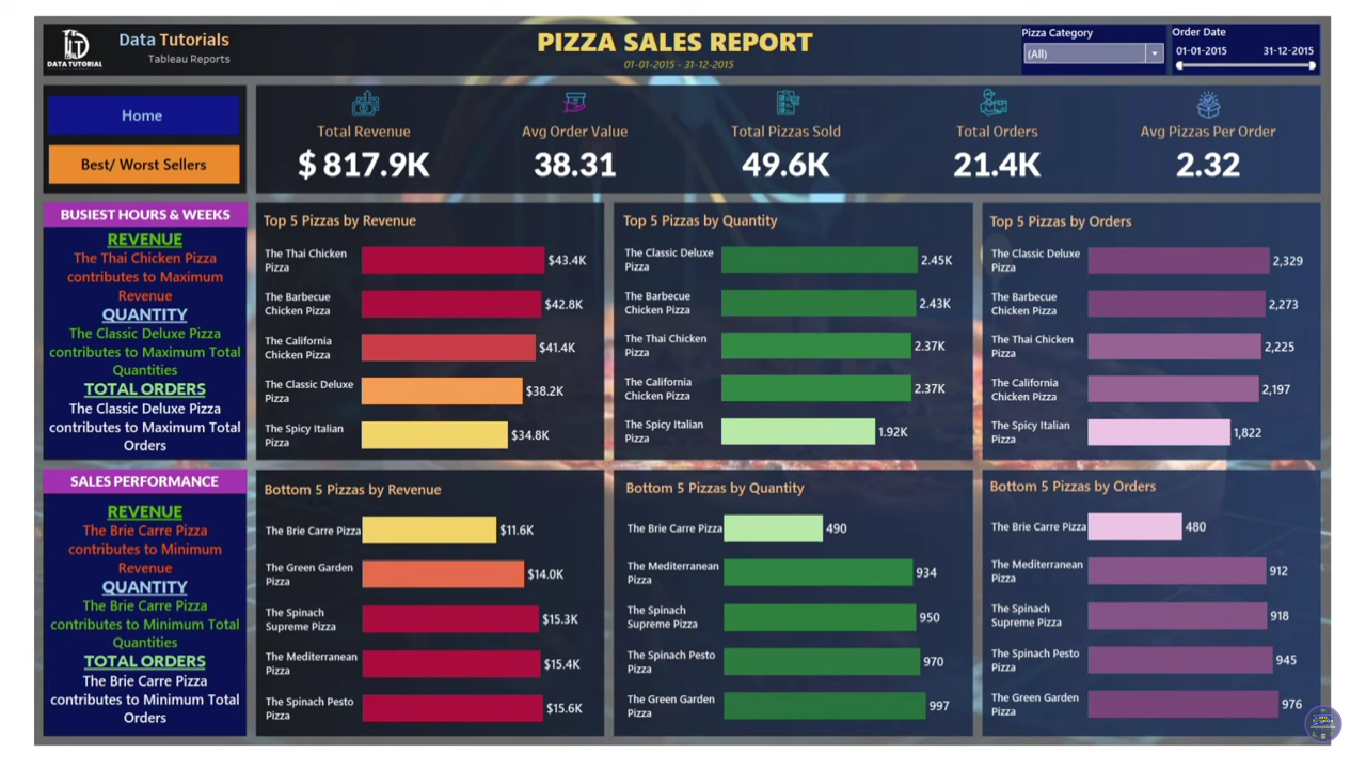

The dashboard page shown, as its layout file describes it:
{"tool":"tableau","page":{"name":"Best and worst seller","canvas":[1600,900],"ordinal":0},"visuals":[{"type":"image","param":"Image/Pizza Tableau 2.jpg","box":[8,8,1584,884]},{"type":"text","box":[452,20,221,43]},{"type":"filter","title":"Date Range","param":"[federated.1edhx0b1gj70c01gmr46z0ugq7be].[none:pizza_category:nk]","box":[29,22,200,61]},{"type":"filter","title":"Date Range","param":"[federated.1edhx0b1gj70c01gmr46z0ugq7be].[none:order_date:qk]","box":[1330,22,236,61]},{"type":"image","param":"Image/pizza-slice.png","box":[411,28,34,26]},{"type":"worksheet","title":"Date Range","mark":"Automatic","box":[350,47,379,41]},{"type":"image","param":"Image/delivery-man.png","box":[1153,95,54,42]},{"type":"image","param":"Image/shipping-box.png","box":[642,96,49,43]},{"type":"image","param":"Image/order-delivery.png","box":[900,96,45,43]},{"type":"image","param":"Image/profit-growth.png","box":[387,97,55,40]},{"type":"image","param":"Image/order (1).png","box":[1409,97,41,42]},{"type":"dashboard-object","box":[36,100,235,52]},{"type":"worksheet","title":"KPI Banner","mark":"Automatic","box":[288,137,1278,89]},{"type":"dashboard-object","box":[37,162,231,52]},{"type":"text","box":[33,235,244,32]},{"type":"worksheet","title":"Top 5 pizzaz by total Orders","mark":"Automatic","rows":["pizza_name"],"cols":["Calculation_876513114218151937"],"box":[1159,235,409,310]},{"type":"worksheet","title":"Top 5 pizzaz by revenue","mark":"Automatic","rows":["pizza_name"],"cols":["Calculation_876513114217435136"],"box":[288,236,417,309]},{"type":"worksheet","title":"Top 5 pizzaz by total pizza sold","mark":"Automatic","rows":["pizza_name"],"cols":["Calculation_876513114219102211"],"box":[717,237,432,306]},{"type":"text","box":[32,268,244,278]},{"type":"worksheet","title":"Bottom 5 pizzaz by total pizza sold (2)","mark":"Automatic","rows":["pizza_name"],"cols":["Calculation_876513114219102211"],"box":[716,555,433,321]},{"type":"text","box":[33,556,244,36]},{"type":"worksheet","title":"Bottom 5 pizzaz by revenue","mark":"Automatic","rows":["pizza_name"],"cols":["Calculation_876513114217435136"],"box":[287,556,419,321]},{"type":"worksheet","title":"Bottom 5 pizzaz by total Orders","mark":"Automatic","rows":["pizza_name"],"cols":["Calculation_876513114218151937"],"box":[1159,556,407,320]},{"type":"text","box":[33,589,244,286]}]}

Visuals, with their boxes in screenshot pixels (x1, y1, x2, y2), scaled from the page's 1600x900 canvas onto the 1366x768 screenshot:
image: box=[7, 7, 1359, 761]
text: box=[386, 17, 575, 54]
"Date Range" filter: box=[25, 19, 196, 71]
"Date Range" filter: box=[1135, 19, 1337, 71]
image: box=[351, 24, 380, 46]
"Date Range" worksheet: box=[299, 40, 622, 75]
image: box=[984, 81, 1030, 117]
image: box=[548, 82, 590, 119]
image: box=[768, 82, 807, 119]
image: box=[330, 83, 377, 117]
image: box=[1203, 83, 1238, 119]
dashboard-object: box=[31, 85, 231, 130]
"KPI Banner" worksheet: box=[246, 117, 1337, 193]
dashboard-object: box=[32, 138, 229, 183]
text: box=[28, 201, 236, 228]
"Top 5 pizzaz by total Orders" worksheet: box=[989, 201, 1339, 465]
"Top 5 pizzaz by revenue" worksheet: box=[246, 201, 602, 465]
"Top 5 pizzaz by total pizza sold" worksheet: box=[612, 202, 981, 463]
text: box=[27, 229, 236, 466]
"Bottom 5 pizzaz by total pizza sold (2)" worksheet: box=[611, 474, 981, 748]
text: box=[28, 474, 236, 505]
"Bottom 5 pizzaz by revenue" worksheet: box=[245, 474, 603, 748]
"Bottom 5 pizzaz by total Orders" worksheet: box=[989, 474, 1337, 748]
text: box=[28, 503, 236, 747]
